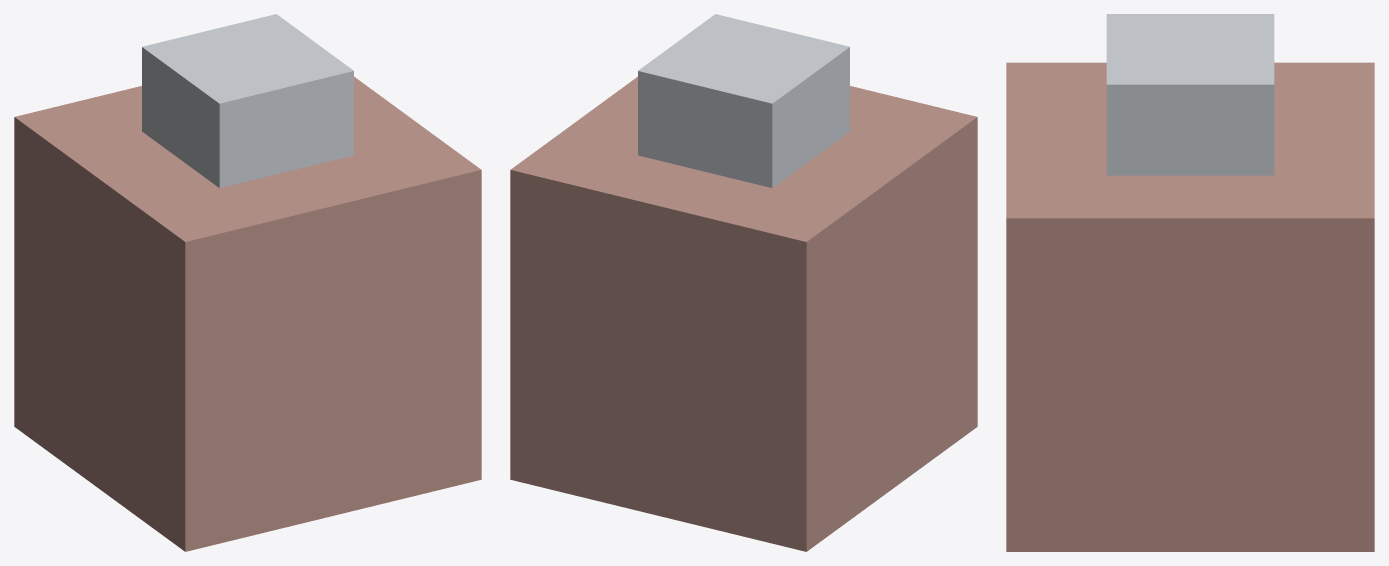
File: prop.glb
3 renders of one model, left to right at view 1: azimuth 30°, elevation 25°; view 2: azimuth 150°, elevation 25°; view 3: azimuth 270°, elevation 25°, orthographic. The views are drawn at different scales.
Visible parts, largest first — view 1: Cloth, Metal; view 2: Cloth, Metal; view 3: Cloth, Metal.
Boxes of the visible parts, x1,y1,x2,y2 form: Cloth: (14,76,481,551); Metal: (142,14,353,188); Cloth: (510,76,977,551); Metal: (638,14,849,188); Cloth: (1006,62,1374,551); Metal: (1106,14,1274,175).
Size of the model in its own units: 0.22 by 0.28 by 0.22.
